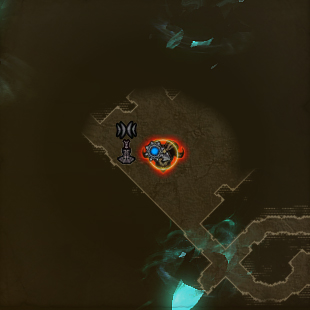Guardian: (138, 137, 186, 174)
